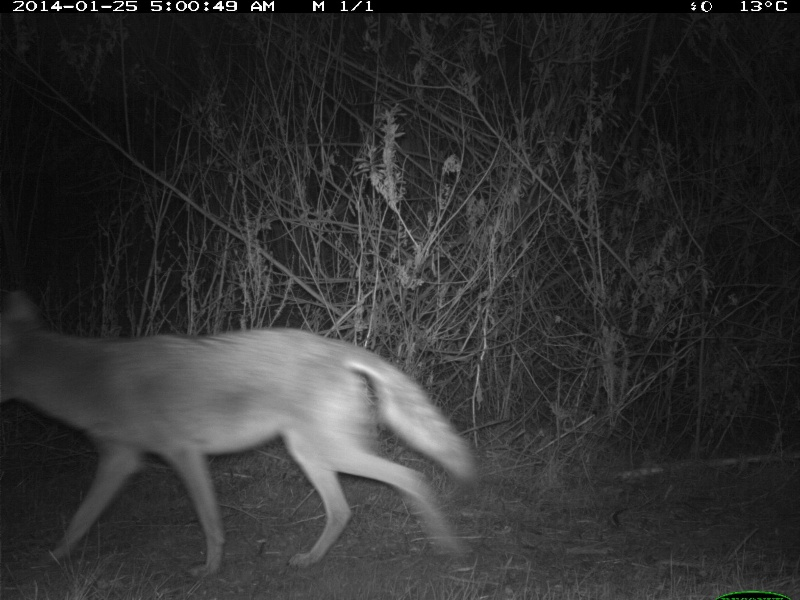coyote: (1, 283, 474, 580)
